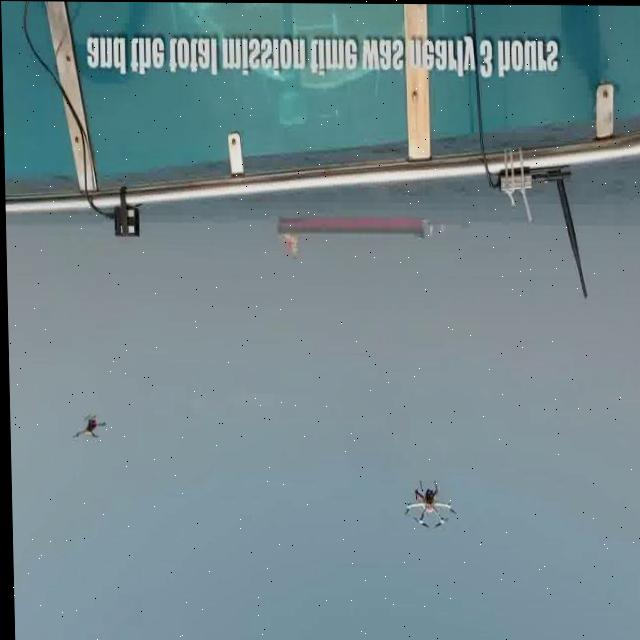drone: (67, 408, 104, 449)
